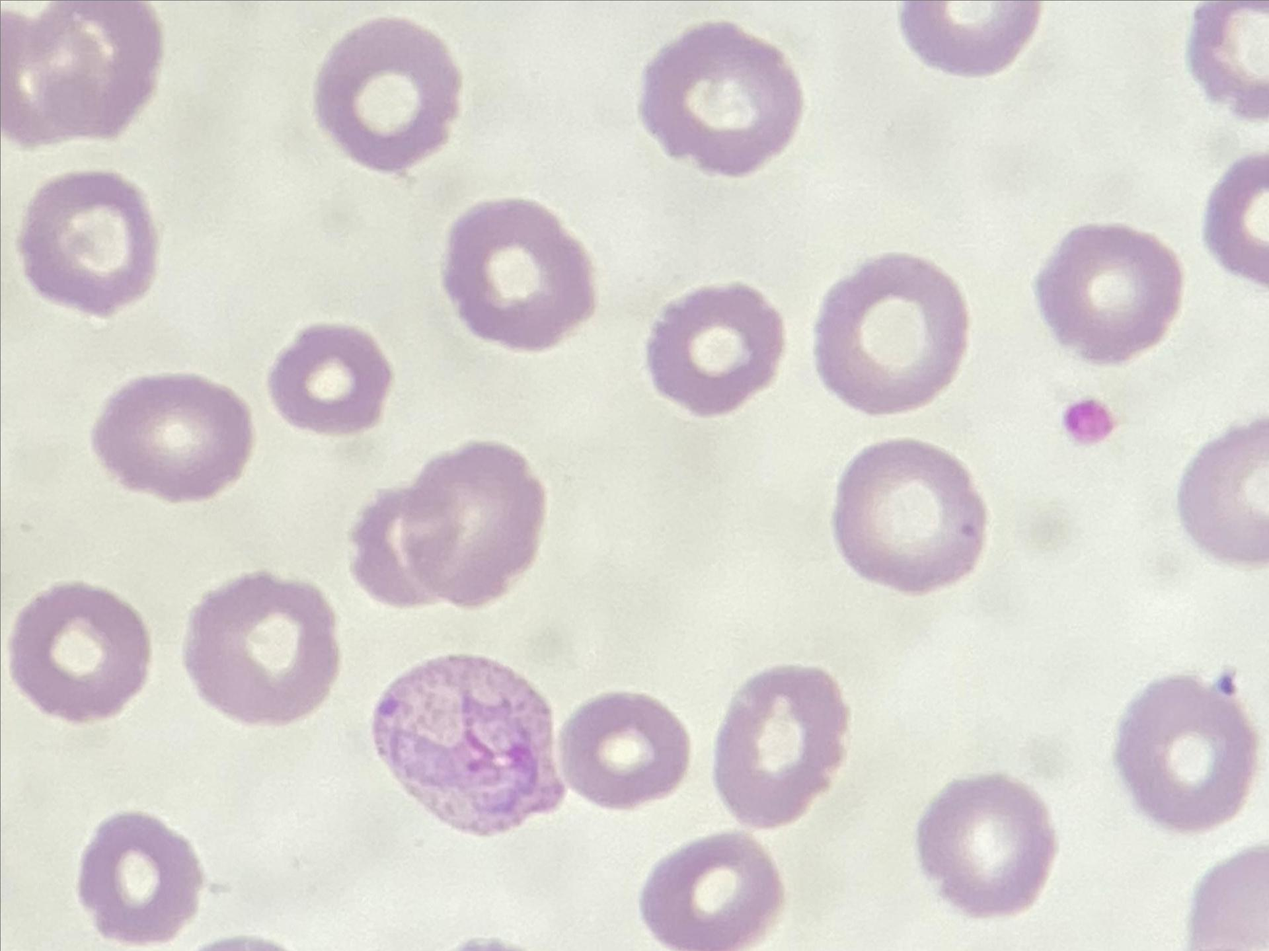Infected: (370, 651, 567, 844)
Uninfected: (809, 250, 968, 411), (637, 23, 795, 177), (185, 573, 342, 725), (441, 199, 593, 353), (837, 430, 984, 589), (714, 664, 852, 833), (405, 441, 543, 606), (1119, 664, 1257, 828), (313, 23, 463, 171), (1035, 228, 1181, 370), (643, 269, 780, 417), (4, 585, 148, 724), (20, 168, 153, 318), (916, 772, 1044, 927), (97, 371, 251, 498), (77, 807, 204, 951), (639, 833, 778, 951), (33, 1, 157, 133), (555, 699, 689, 803), (269, 322, 386, 437), (341, 496, 457, 605)
